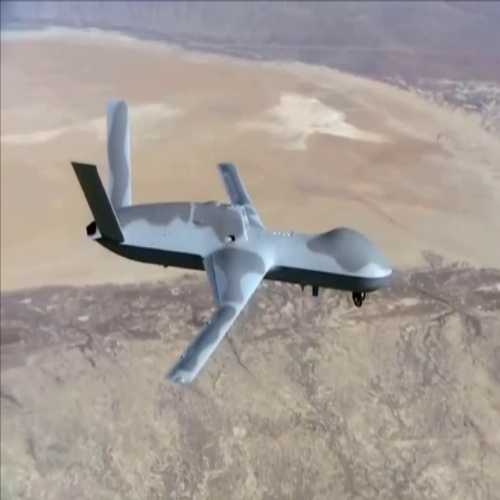uav: (68, 95, 397, 395)
